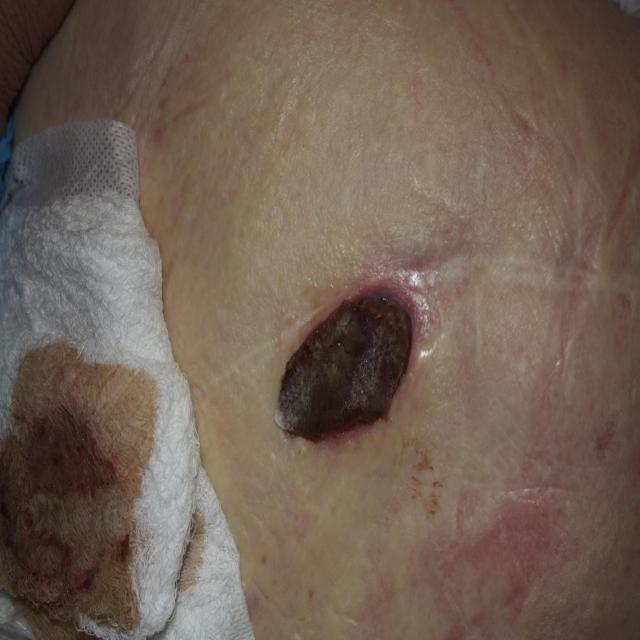Unstageable: (275, 296, 411, 439)
